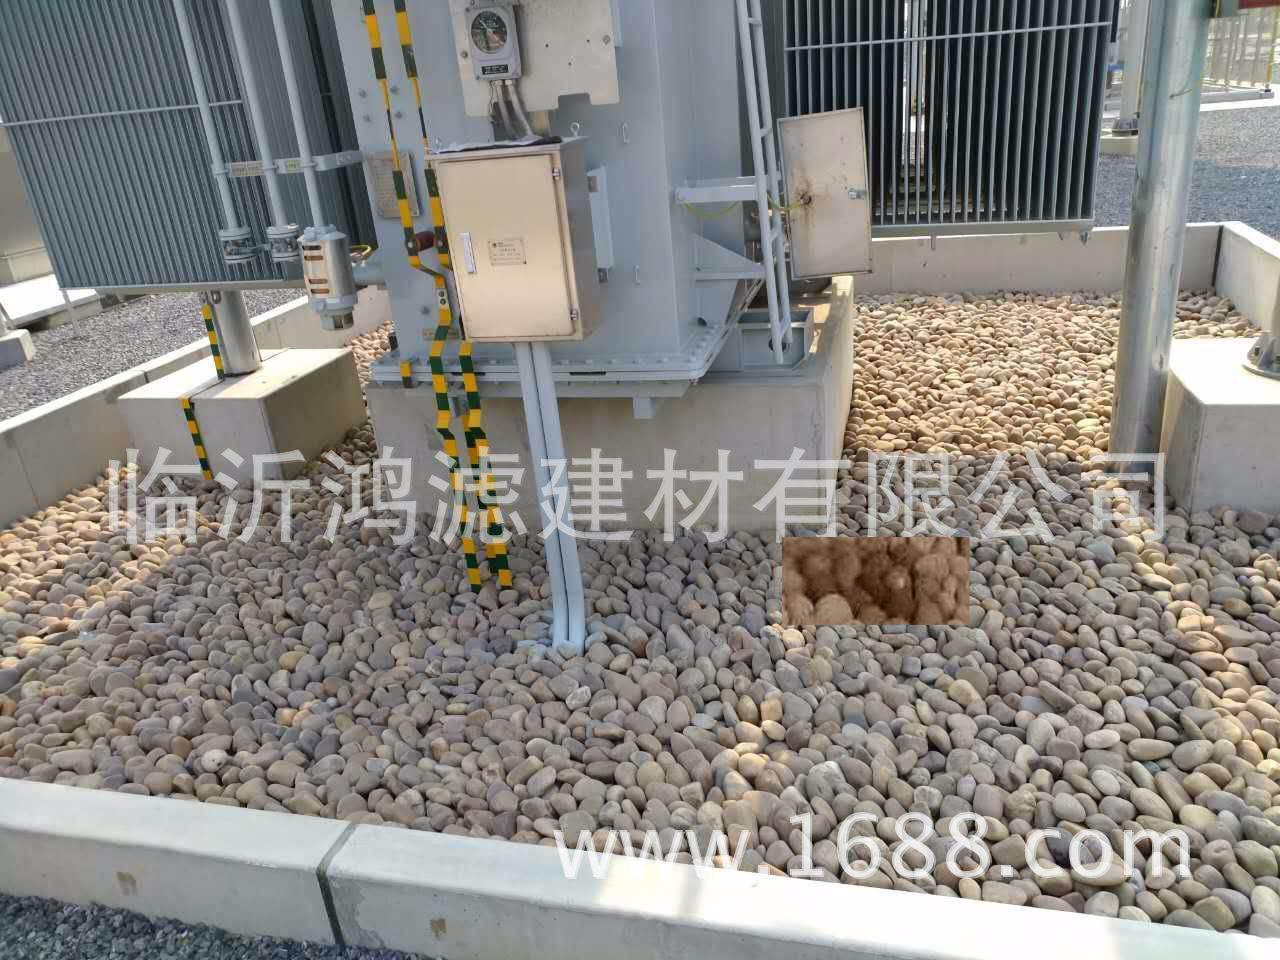oil: (789, 537, 964, 623)
